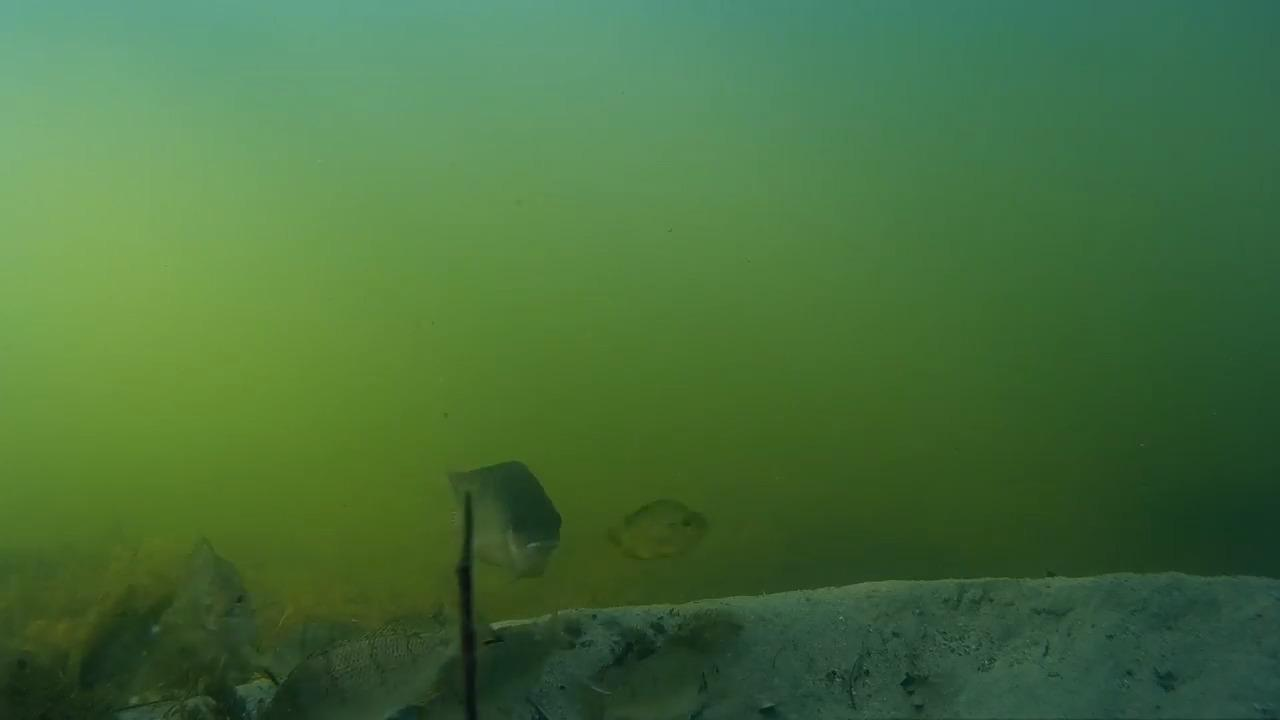Tilapia: (253, 610, 480, 720), (446, 440, 563, 586), (564, 638, 733, 720), (59, 580, 164, 688), (171, 520, 258, 646), (599, 497, 723, 568)
